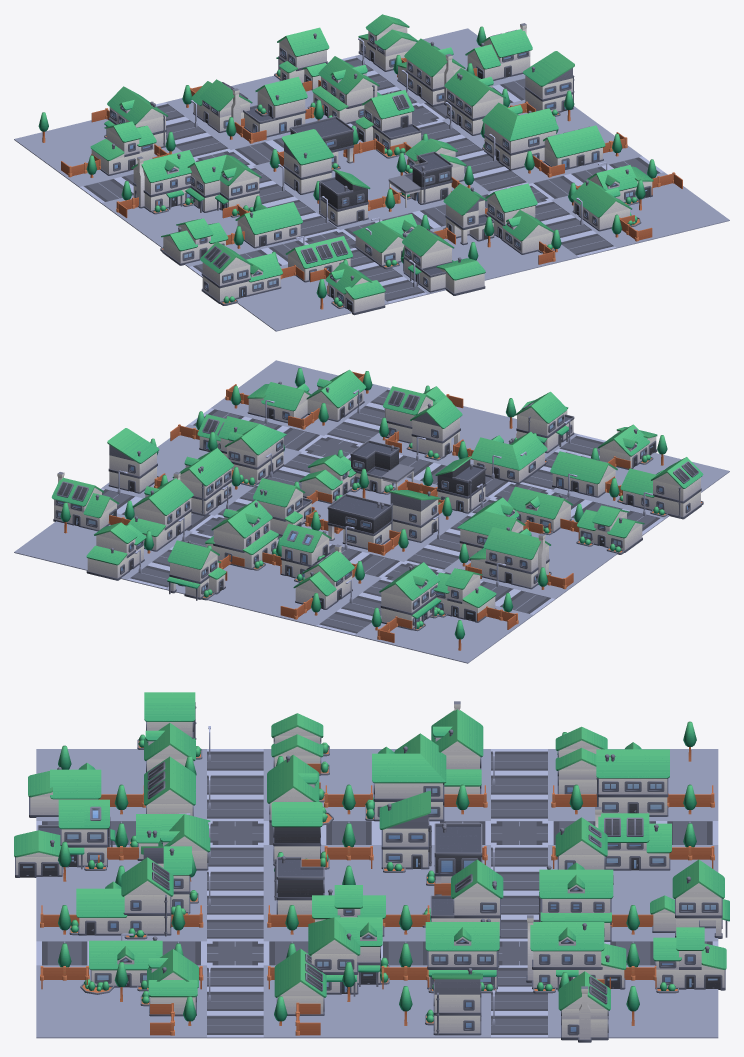
File: kenney_town.glb
3 renders of one model, top to bottom at view 1: azimuth 30°, elevation 25°; view 2: azimuth 150°, elevation 25°; view 3: azimuth 270°, elevation 25°, orthographic. The views are drawn at different scales.
Parts seen in each view (by area): view 1: building-type-n_4_11, building-type-b_0_9, building-type-f_9_6, building-type-f_2_5, building-type-b_7_10, building-type-d_1_4, building-type-t_7_2, building-type-u_7_4, building-type-o_5_2, building-type-d_9_2, building-type-k_4_5, building-type-e_9_4 (+54 smaller); view 2: building-type-b_0_9, building-type-d_1_4, building-type-t_7_2, building-type-f_9_6, building-type-d_9_2, building-type-e_2_1, building-type-p_5_4, building-type-m_4_9, building-type-s_7_0, building-type-k_11_4, building-type-c_9_0, building-type-e_9_4 (+54 smaller); view 3: building-type-b_7_10, building-type-d_9_2, building-type-n_4_11, building-type-f_9_6, building-type-e_2_1, building-type-f_2_5, building-type-e_9_4, building-type-t_7_2, building-type-s_7_0, building-type-c_9_0, building-type-b_0_9, building-type-j_4_1 (+95 smaller).
Boxes of the visible parts, <box> form: building-type-n_4_11: <box>401,224,485,295</box>; building-type-b_0_9: <box>200,241,282,305</box>; building-type-f_9_6: <box>482,102,558,170</box>; building-type-f_2_5: <box>185,154,261,217</box>; building-type-b_7_10: <box>485,183,555,254</box>; building-type-d_1_4: <box>131,150,195,214</box>; building-type-t_7_2: <box>307,56,381,123</box>; building-type-u_7_4: <box>355,90,421,158</box>; building-type-o_5_2: <box>243,76,307,137</box>; building-type-d_9_2: <box>397,38,465,106</box>; building-type-k_4_5: <box>282,129,333,194</box>; building-type-e_9_4: <box>444,68,505,135</box>; building-type-b_0_9: <box>617,457,703,519</box>; building-type-d_1_4: <box>469,527,551,589</box>; building-type-t_7_2: <box>205,500,278,570</box>; building-type-f_9_6: <box>218,416,286,486</box>; building-type-d_9_2: <box>128,472,193,551</box>; building-type-e_2_1: <box>379,562,441,631</box>; building-type-p_5_4: <box>327,494,391,549</box>; building-type-m_4_9: <box>471,432,547,484</box>; building-type-s_7_0: <box>167,540,226,600</box>; building-type-k_11_4: <box>107,428,159,493</box>; building-type-c_9_0: <box>86,522,146,580</box>; building-type-e_9_4: <box>172,448,233,516</box>; building-type-b_7_10: <box>69,857,173,939</box>; building-type-d_9_2: <box>526,915,626,993</box>; building-type-n_4_11: <box>14,799,115,877</box>; building-type-f_9_6: <box>308,917,389,996</box>; building-type-e_2_1: <box>596,742,669,816</box>; building-type-f_2_5: <box>365,733,446,821</box>; building-type-e_9_4: <box>425,918,499,993</box>; building-type-t_7_2: <box>538,862,613,942</box>; building-type-s_7_0: <box>650,859,729,938</box>; building-type-c_9_0: <box>653,927,726,993</box>; building-type-b_0_9: <box>137,692,202,772</box>; building-type-j_4_1: <box>595,807,671,870</box>.
Size of the model in its own units: 12.6 by 1.24 by 12.6.
Materials: 2 (2 with a texture image).
